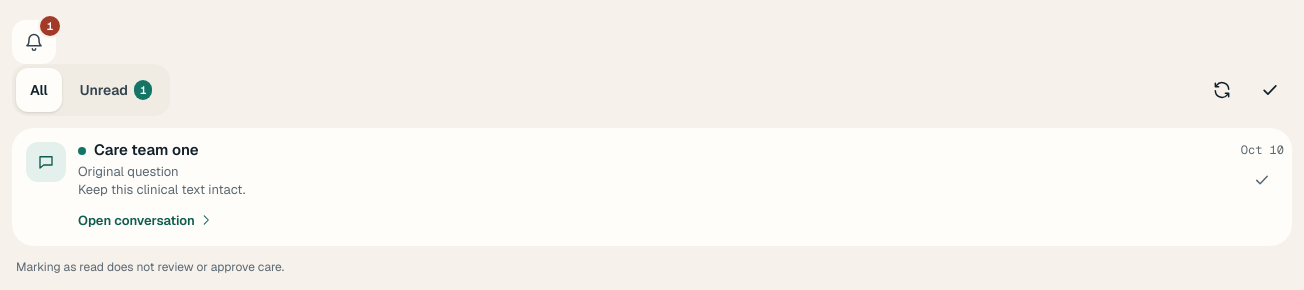
Test: patient notification centre › clears private details on revoked access
The image size is (1304, 290).
Expected: the heading "Care team one" is shown, [94,140,199,159]
Click the button named "Refresh": {"x": 1222, "y": 90} [1200,68,1244,112]
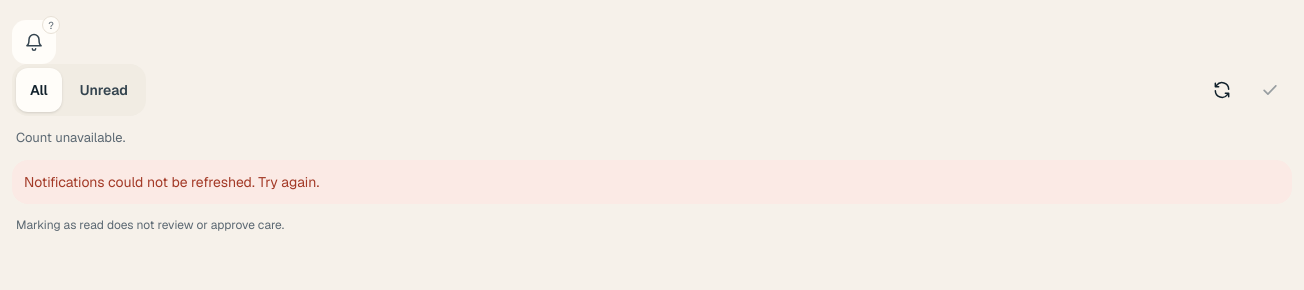
Result: the message "Notifications could not be refreshed. Try again." is shown at [12,160,1292,204]
Result: the heading "Care team one" is gone
